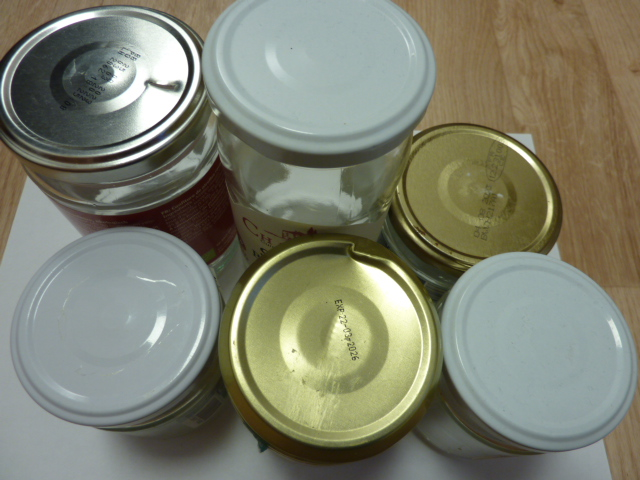damaged: (222, 238, 441, 457), (4, 224, 220, 426), (2, 7, 206, 179)
intact: (436, 250, 637, 452), (202, 2, 435, 168), (382, 121, 564, 271)
